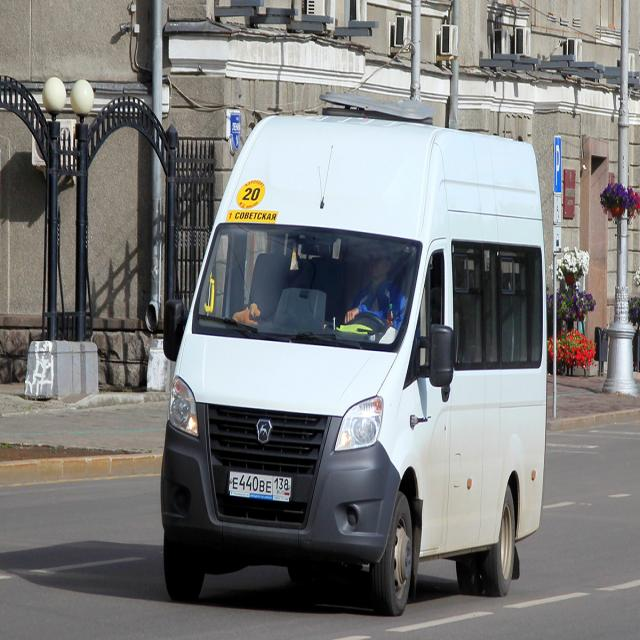number-of-bus: (241, 179, 265, 209)
